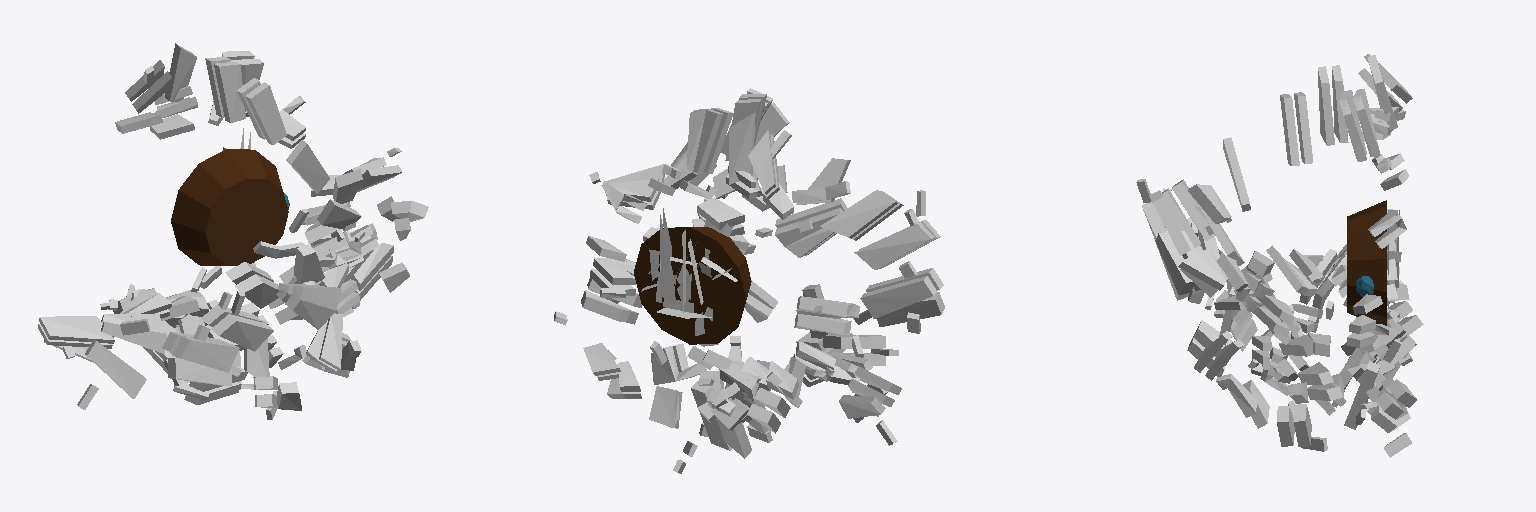
The picture shows the model from 3 angles: view 1: azimuth 30°, elevation 25°; view 2: azimuth 150°, elevation 25°; view 3: azimuth 270°, elevation 25°; orthographic projection.
Visible parts, largest first — view 1: Cone.001_Cone.001_cover, Cone_Cone_cover, Cylinder_Cylinder_Material.001; view 2: Cone_Cone_cover, Cone.001_Cone.001_cover, Cylinder_Cylinder_Material.001, Plane_Plane_Material.003; view 3: Cone_Cone_cover, Cone.001_Cone.001_cover, Cylinder_Cylinder_Material.001, Plane_Plane_Material.003.
Boxes of the visible parts, x1=… form: Cone.001_Cone.001_cover: x1=38, y1=43, x2=401, y2=409; Cone_Cone_cover: x1=113, y1=169, x2=428, y2=419; Cylinder_Cylinder_Material.001: x1=171, y1=149, x2=288, y2=265; Cone_Cone_cover: x1=554, y1=142, x2=944, y2=473; Cone.001_Cone.001_cover: x1=586, y1=88, x2=925, y2=445; Cylinder_Cylinder_Material.001: x1=634, y1=227, x2=751, y2=344; Plane_Plane_Material.003: x1=641, y1=208, x2=737, y2=335; Cone_Cone_cover: x1=1142, y1=179, x2=1423, y2=457; Cone.001_Cone.001_cover: x1=1136, y1=54, x2=1412, y2=415; Cylinder_Cylinder_Material.001: x1=1347, y1=200, x2=1386, y2=325; Plane_Plane_Material.003: x1=1387, y1=209, x2=1409, y2=307.
Size of the model in its own units: 3.37 by 3.51 by 2.46.
4 materials, 1 textured.